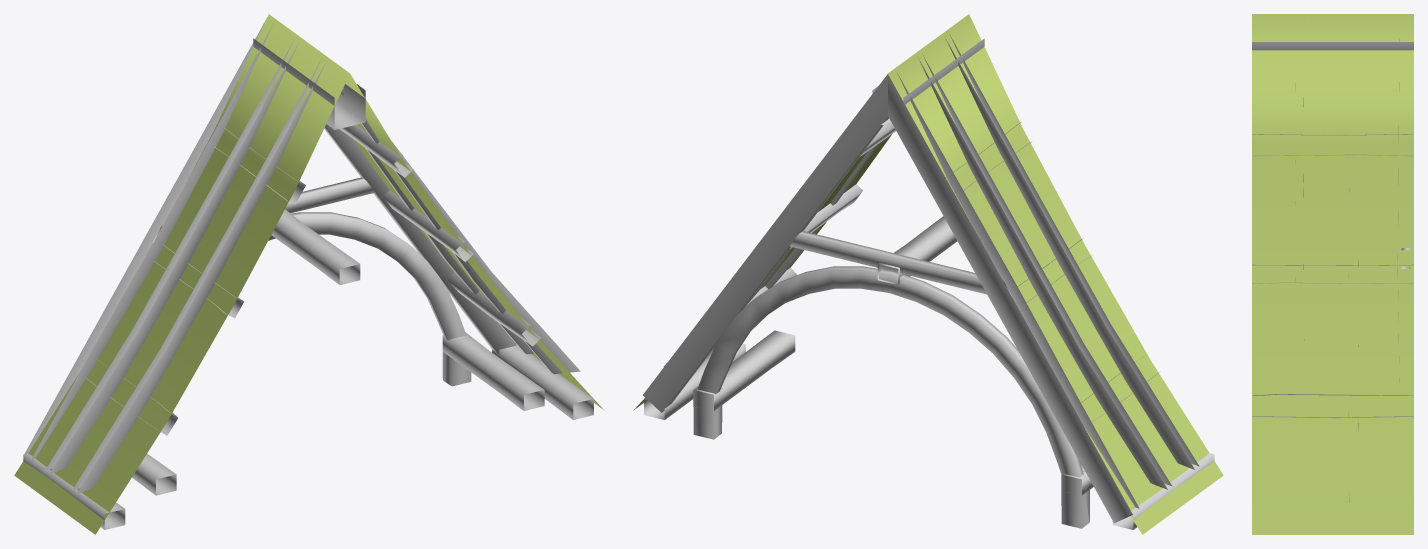
File: roof_inside_large.fbx
3 renders of one model, left to right at view 1: azimuth 30°, elevation 25°; view 2: azimuth 150°, elevation 25°; view 3: azimuth 270°, elevation 25°, orthographic.
Parts seen in each view (by area): view 1: Cube.028; view 2: Cube.028; view 3: Cube.028.
Part boxes in pixels (x1=…): Cube.028: x1=14, y1=14, x2=604, y2=534; Cube.028: x1=633, y1=14, x2=1223, y2=534; Cube.028: x1=1252, y1=14, x2=1413, y2=534.
Bounding box in the file's own units: 18.1 × 13.88 × 5.
